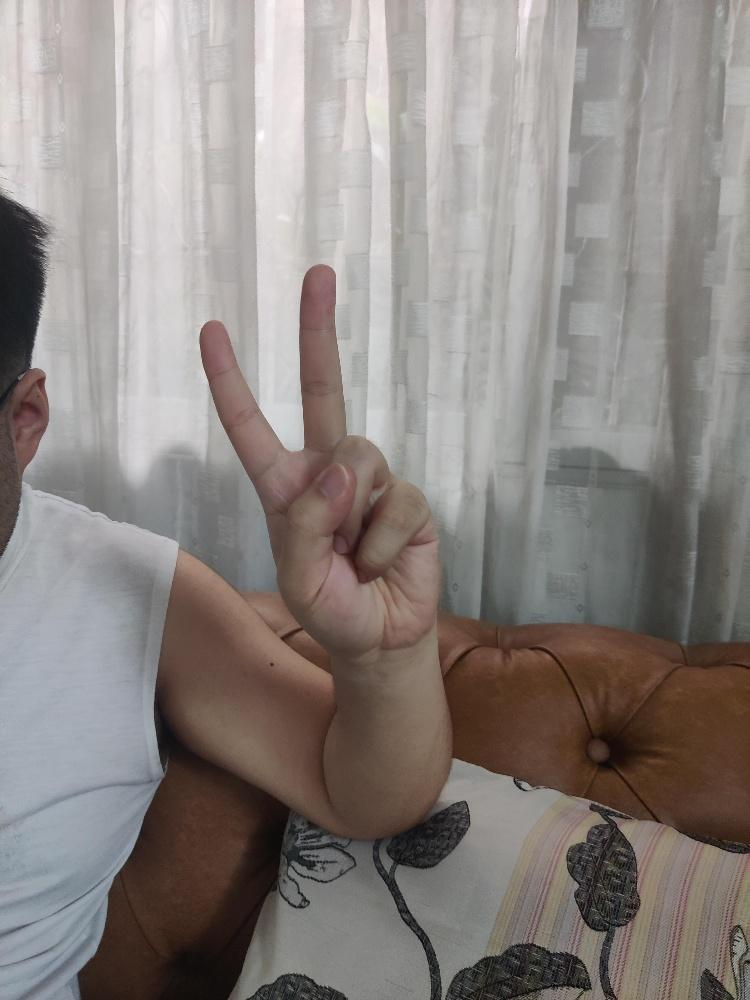v: (195, 261, 441, 658)
